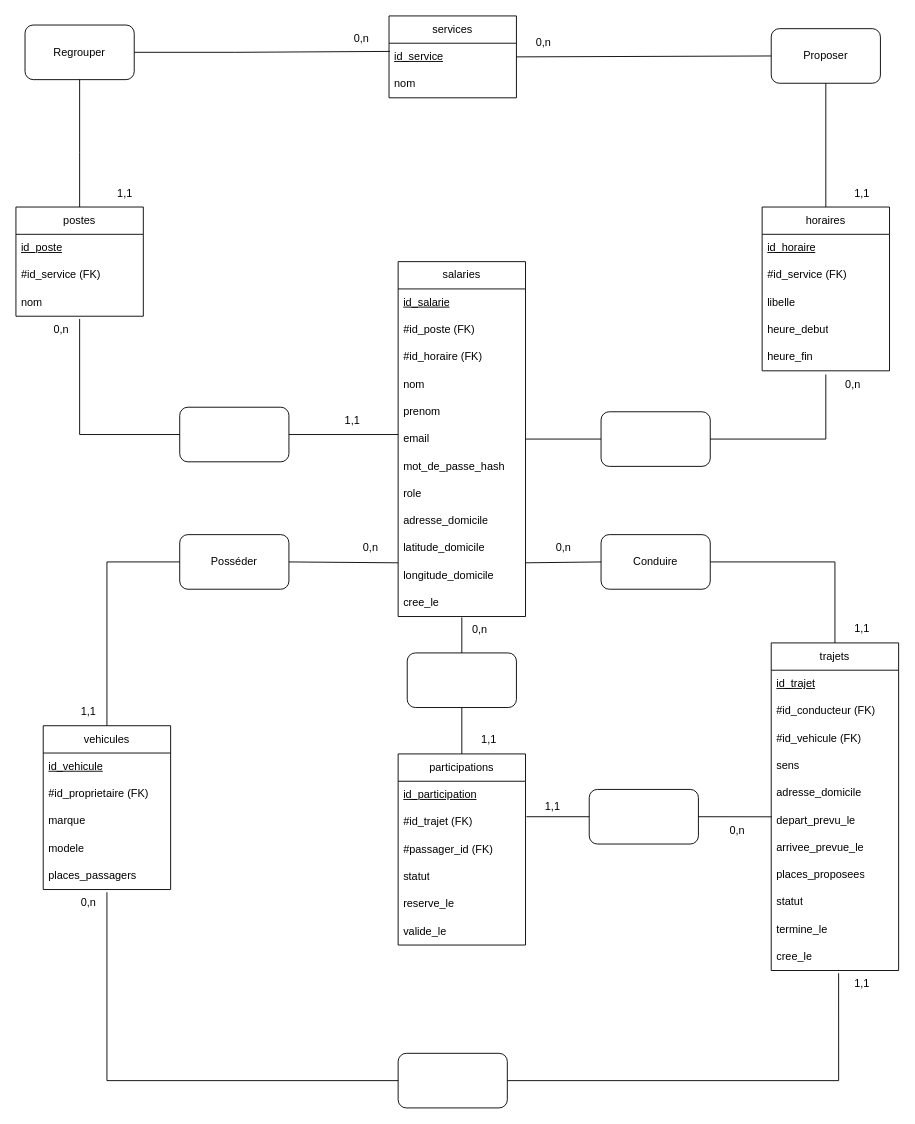
The diagram is 915 pixels wide and 1124 high, and some of its shapes have lost their labels. The shapes that lost their labels are listed below. From the top down, each one's centre as x and y in pixels, then its label:
At (234,434): "Occuper".
At (655,438): "Suivre".
At (461,680): "Réserver".
At (643,816): "Concerner".
At (452,1080): "Utiliser".
